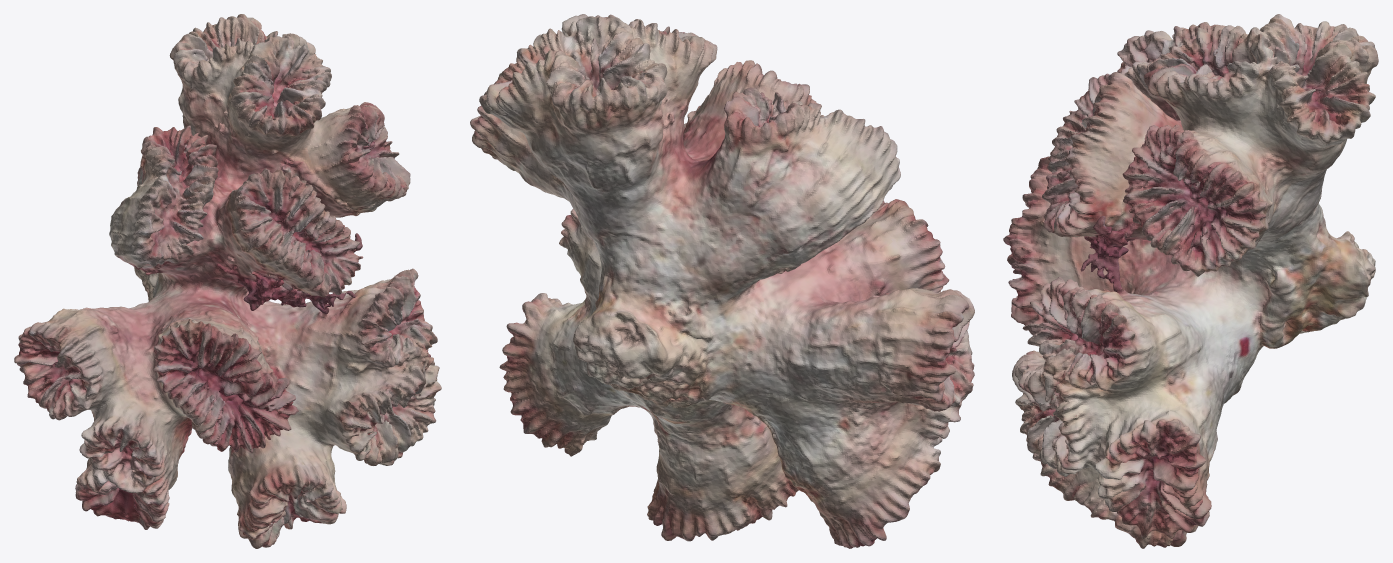
File: coral.glb
The picture shows the model from 3 angles, left to right: view 1: azimuth 30°, elevation 25°; view 2: azimuth 150°, elevation 25°; view 3: azimuth 270°, elevation 25°; orthographic projection. The views are drawn at different scales.
Visible parts, largest first — view 1: Object_2; view 2: Object_2; view 3: Object_2.
Part boxes in pixels (x1=…): Object_2: x1=14, y1=14, x2=441, y2=548; Object_2: x1=470, y1=14, x2=974, y2=548; Object_2: x1=1003, y1=14, x2=1378, y2=548.
Bounding box in the file's own units: 63.47 × 71.37 × 46.25.
1 material, 1 textured.
